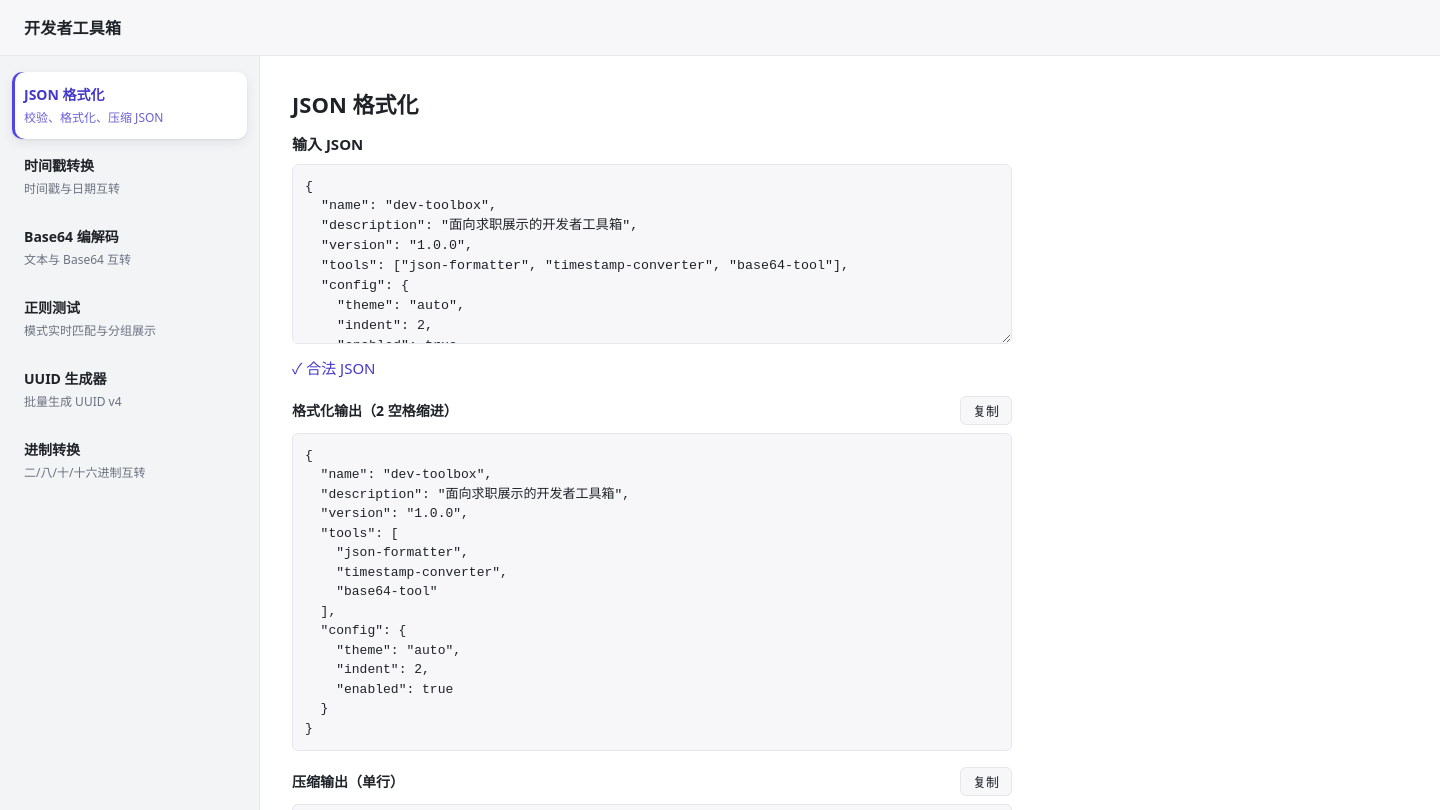
Test: AC-1 侧边栏注册与渲染 › AC-1: 侧边栏出现「进制转换」，点击渲染该工具，其他工具不受影响
Expected: the navigation bar named "工具导航" shows "进制转换", [12,427,247,494]
Click the link "进制转换 二/八/十/十六进制互转" at (52, 450), box [24,440,145,481]
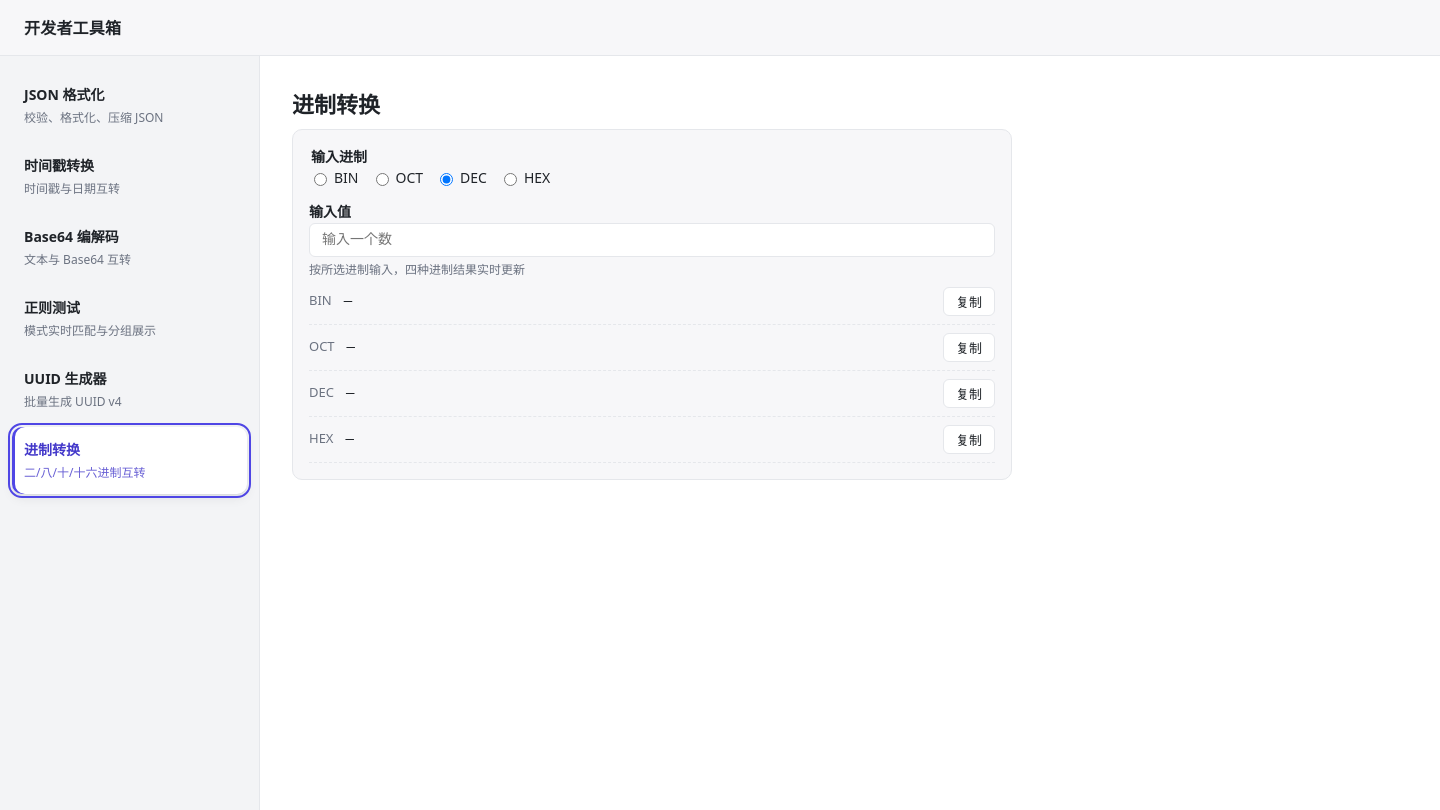
Expected: the heading "进制转换" is shown, [292,89,380,119]
Note: 其他工具仍可正常打开
Click the link "时间戳转换 时间戳与日期互转" at (72, 176), box [24,156,120,197]
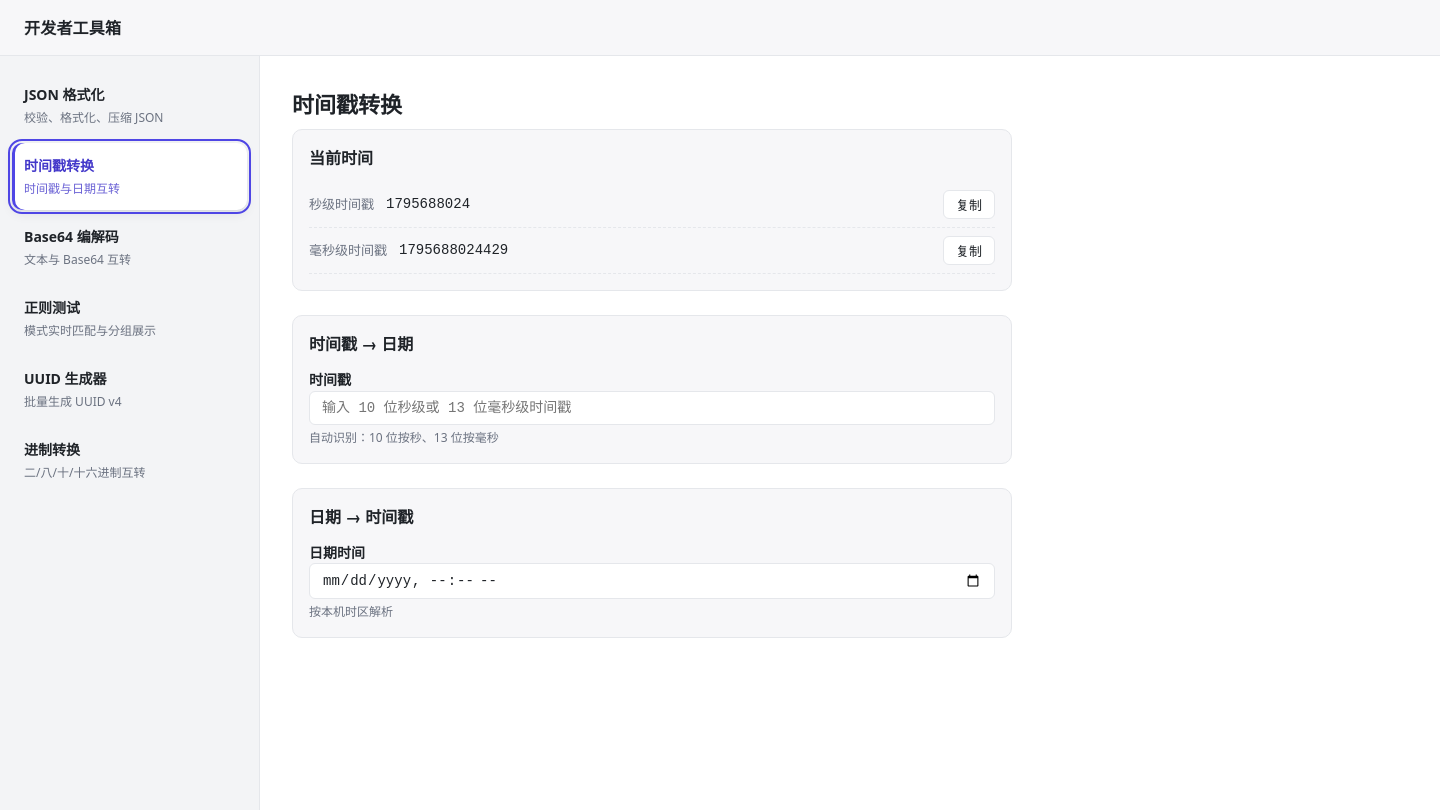
Expected: the heading "时间戳转换" is shown, [292,89,402,119]
